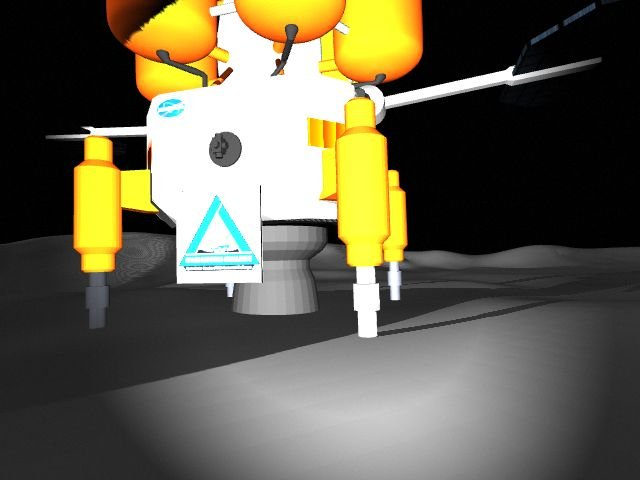basemarker: (179, 194, 263, 274)
